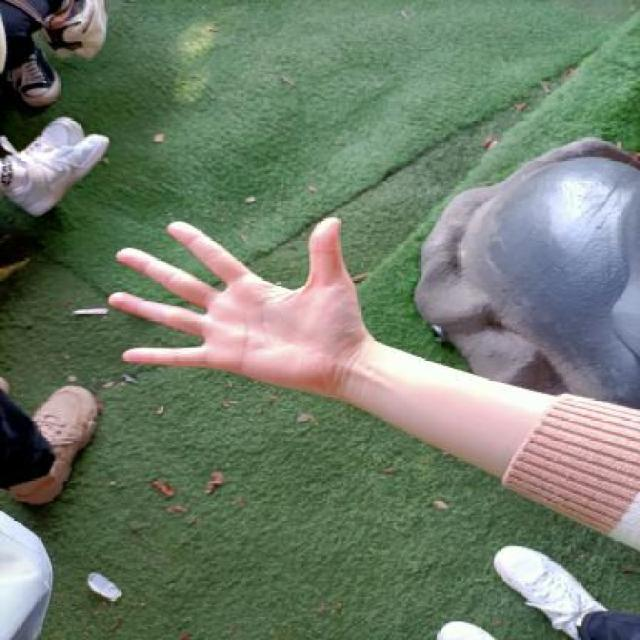bare_hand: (92, 212, 378, 402)
